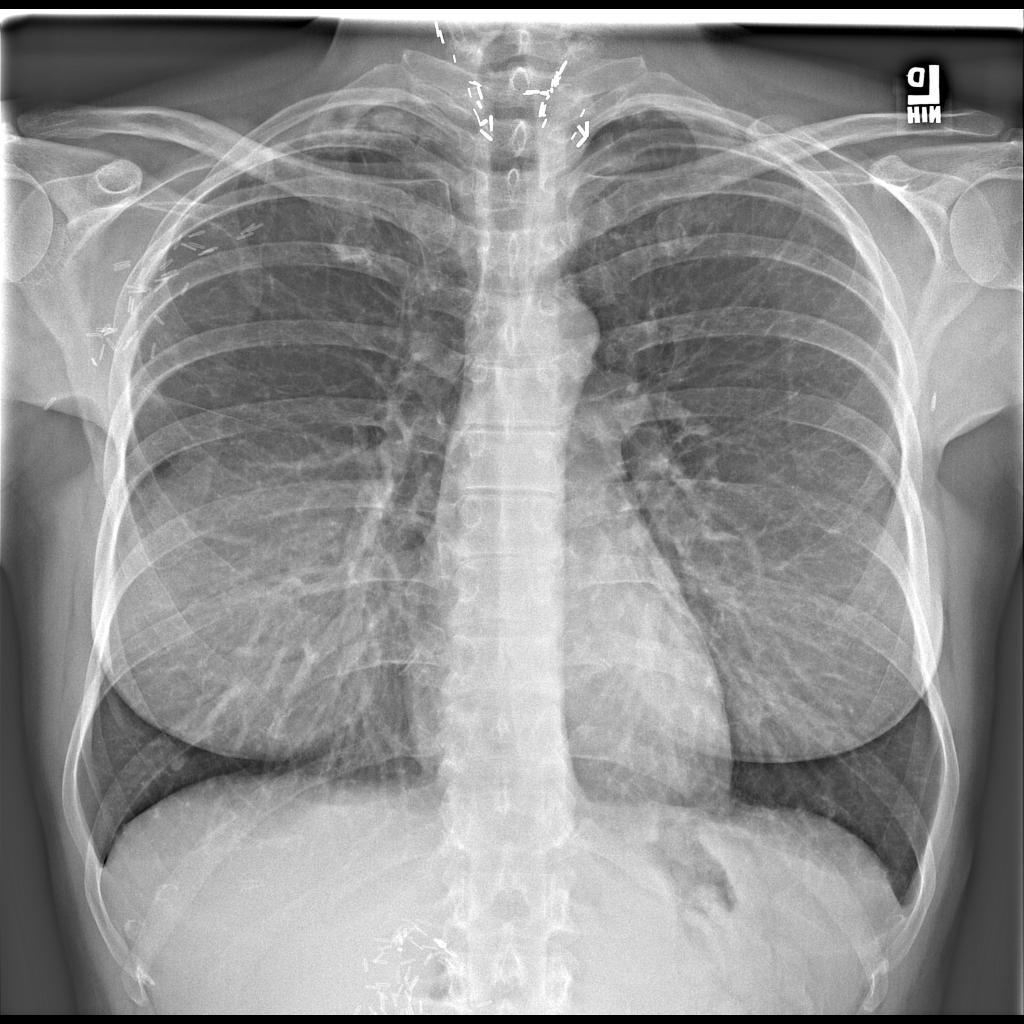Nodule: (159, 748, 196, 781)
